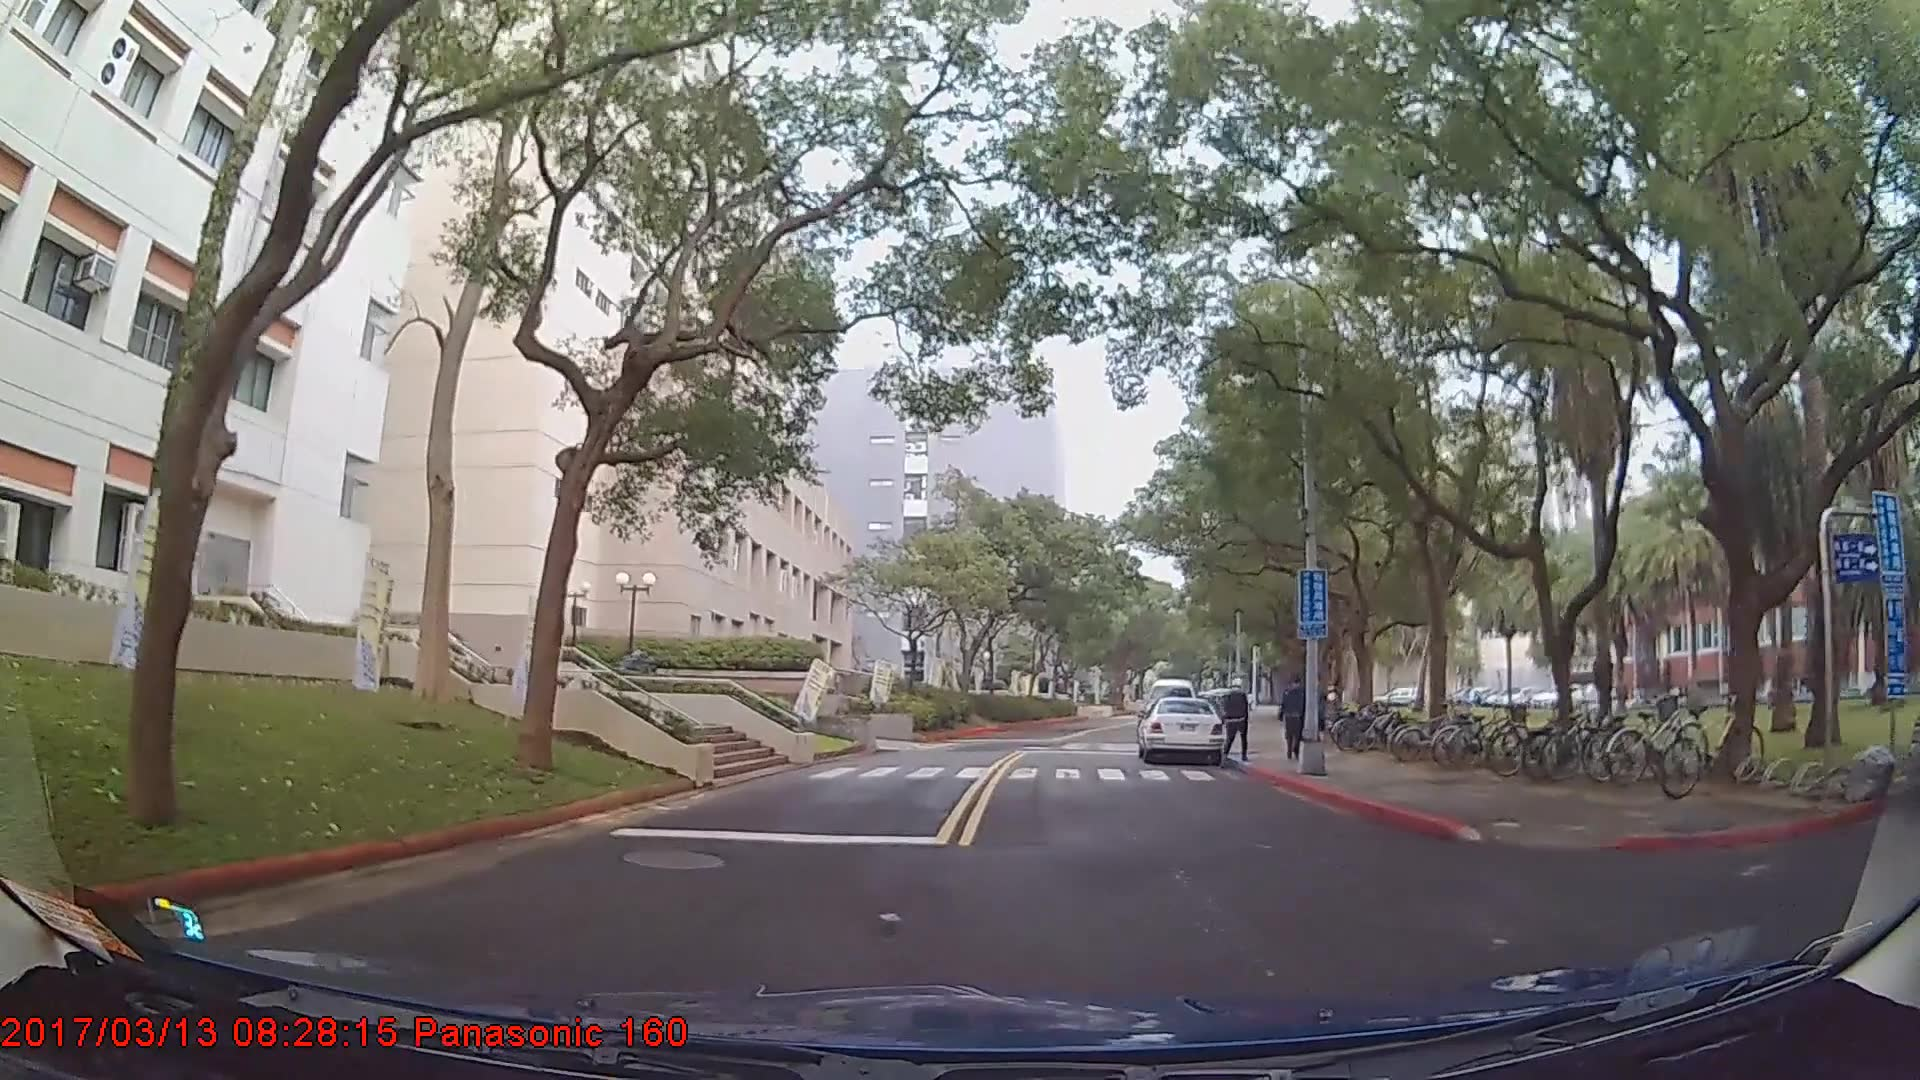pedestrian: (1278, 676, 1316, 764), (1224, 672, 1253, 759)
vehicle: (1136, 694, 1229, 766)
